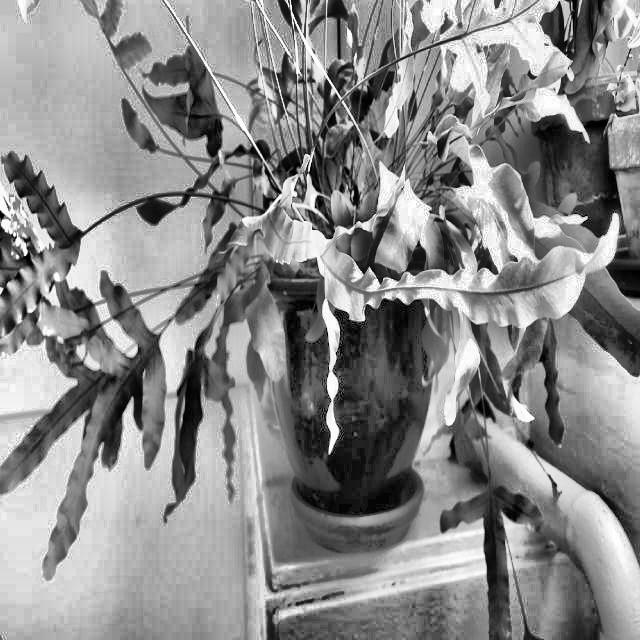plants: (5, 0, 589, 480)
